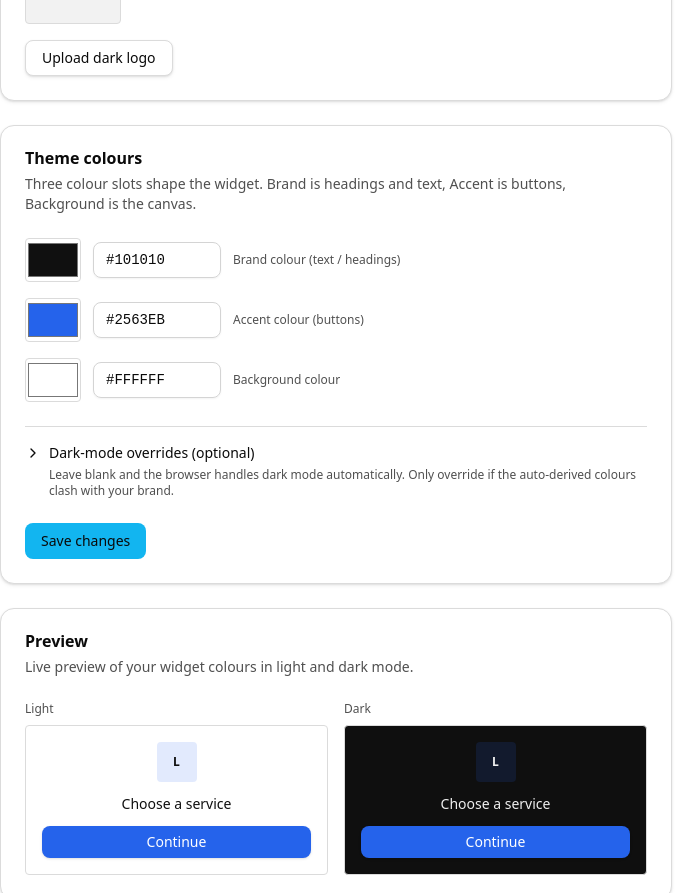
Scenario: BrandingSettings — dark mode overrides collapsible (landr-znzz.11) › clicking the toggle expands the dark overrides section
This screenshot has width=690, height=893.
(page scrolled)
Click the button "Dark-mode overrides (optional)": point(152, 452) [25,443,647,463]
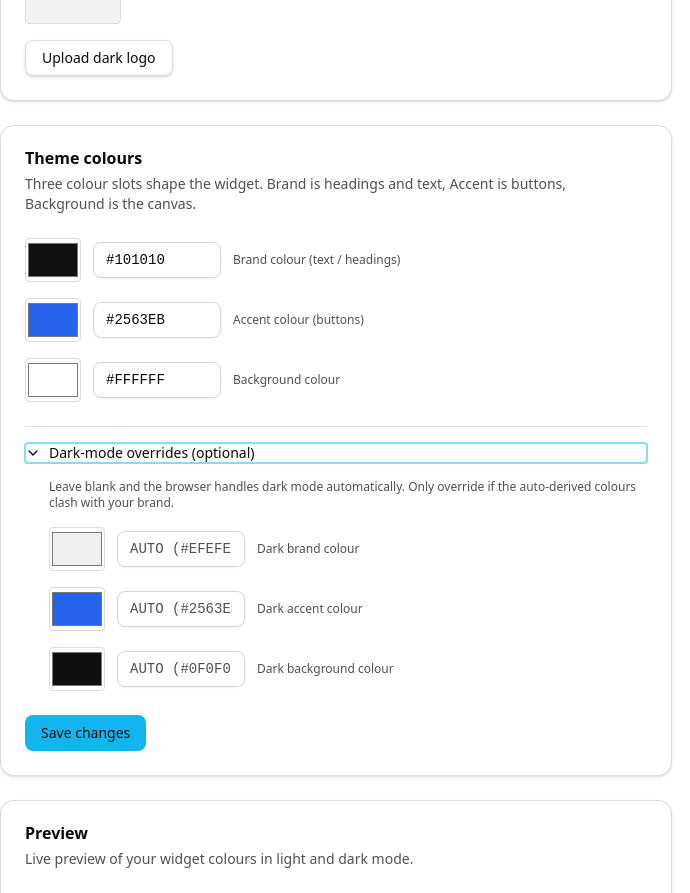
expect the colour field named "Dark brand colour" is shown: met, box [49,527,105,571]
